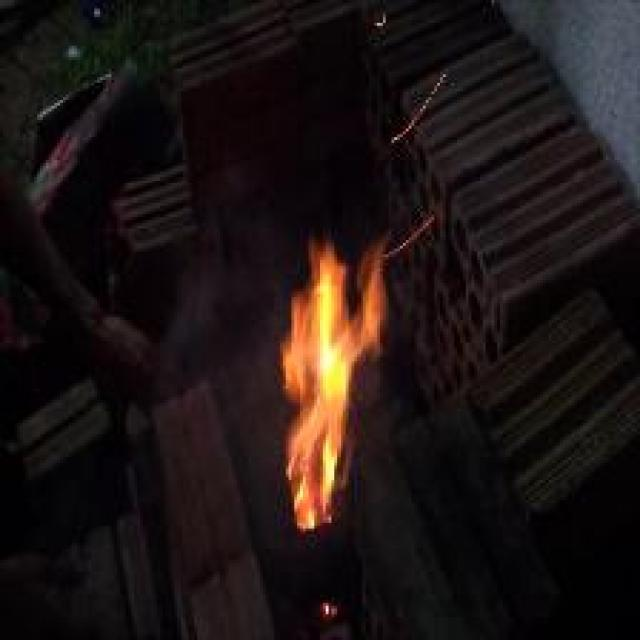Fire: (283, 237, 388, 532)
